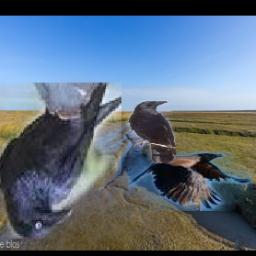Crow: (0, 83, 121, 239), (128, 152, 253, 212), (126, 101, 176, 164)
